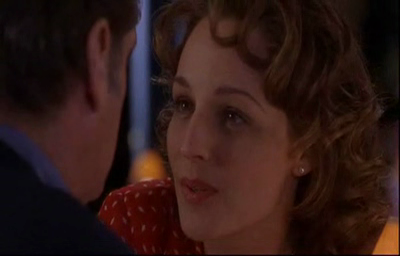cu: (1, 1, 400, 256)
face: (163, 36, 283, 242)
ots: (1, 1, 143, 256)
person: (98, 1, 397, 254)
